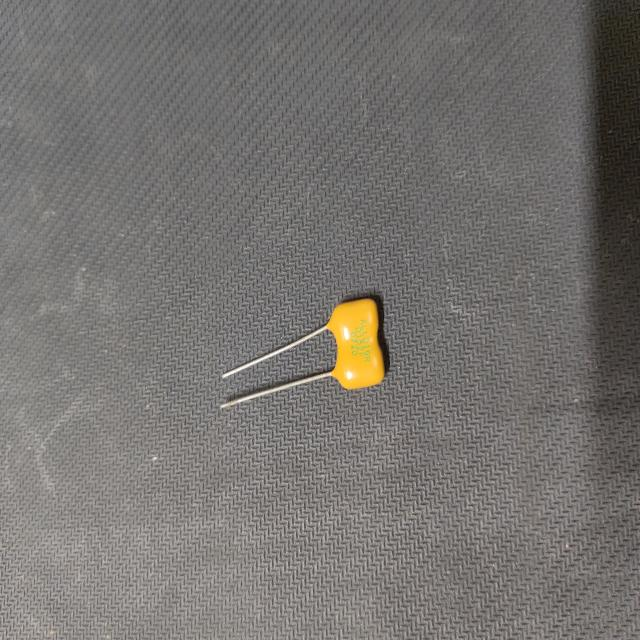resistor: (213, 292, 390, 417)
